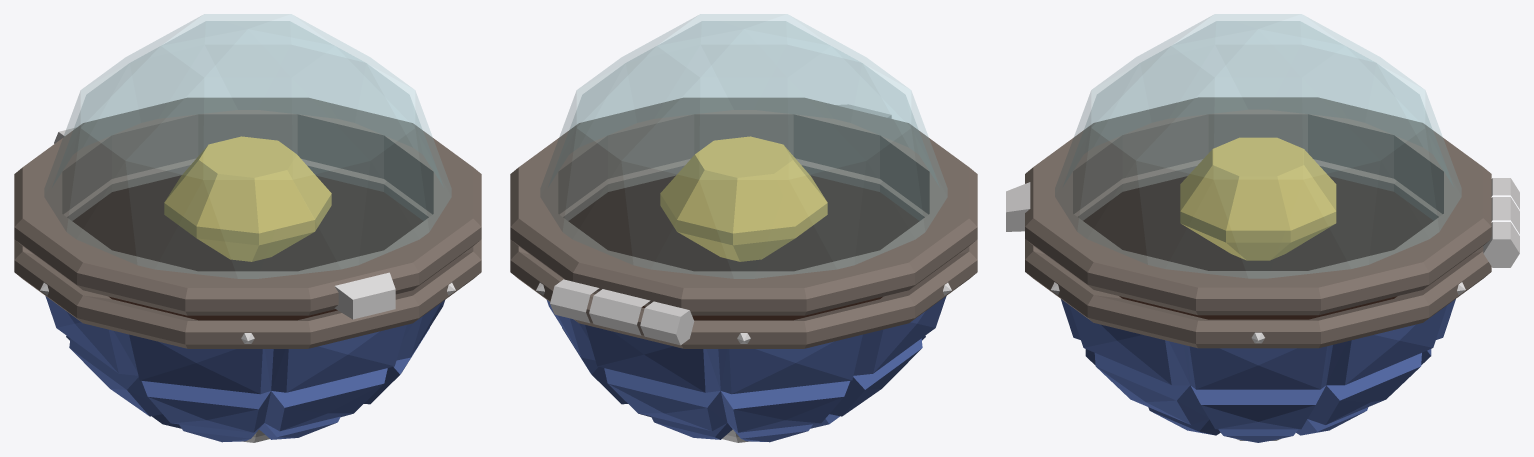
File: gacha-capsule-3863ce.glb
3 views of the same model, side by side, from view 1: azimuth 30°, elevation 25°; view 2: azimuth 150°, elevation 25°; view 3: azimuth 270°, elevation 25° (orthographic).
Visible parts, largest first — view 1: lid-glass, body, lid-ring, prize-gem, lid-trim, body-trim; view 2: lid-glass, body, lid-ring, prize-gem, body-trim, lid-trim; view 3: lid-glass, body, lid-ring, prize-gem, body-trim, lid-trim.
Part boxes in pixels (bbox=[...]): lid-glass: bbox=[44, 14, 451, 278]; body: bbox=[14, 158, 481, 442]; lid-ring: bbox=[14, 97, 481, 315]; prize-gem: bbox=[164, 136, 331, 261]; lid-trim: bbox=[334, 272, 395, 319]; body-trim: bbox=[40, 127, 455, 442]; lid-glass: bbox=[540, 14, 947, 278]; body: bbox=[510, 158, 977, 442]; lid-ring: bbox=[510, 97, 977, 315]; prize-gem: bbox=[660, 136, 827, 261]; body-trim: bbox=[536, 279, 951, 442]; lid-trim: bbox=[589, 104, 891, 335]; lid-glass: bbox=[1055, 14, 1461, 278]; body: bbox=[1025, 159, 1491, 442]; lid-ring: bbox=[1025, 97, 1491, 315]; prize-gem: bbox=[1180, 137, 1336, 260]; body-trim: bbox=[1051, 178, 1519, 440]; lid-trim: bbox=[1006, 182, 1519, 234].
Size of the model in its own units: 0.3297 by 0.2986 by 0.3531.
